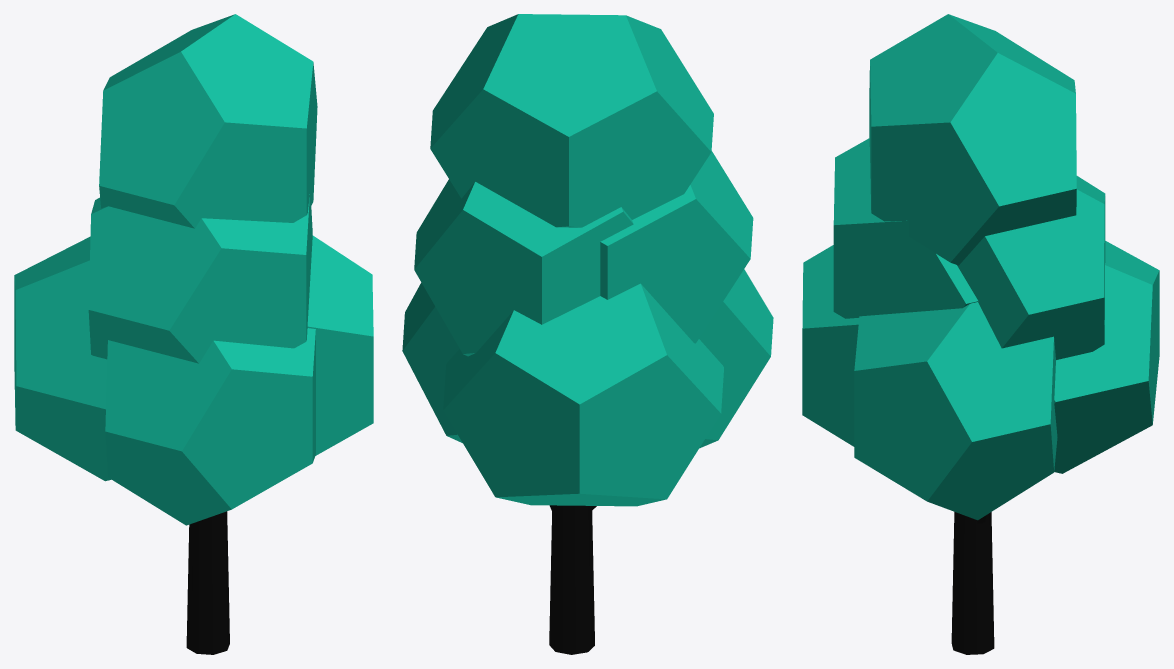
The model's file is simple-tree.gltf.
3 renders of one model, left to right at view 1: azimuth 30°, elevation 25°; view 2: azimuth 150°, elevation 25°; view 3: azimuth 270°, elevation 25°, orthographic. The views are drawn at different scales.
Bounding box in the file's own units: 17.12 × 30.27 × 15.99.
